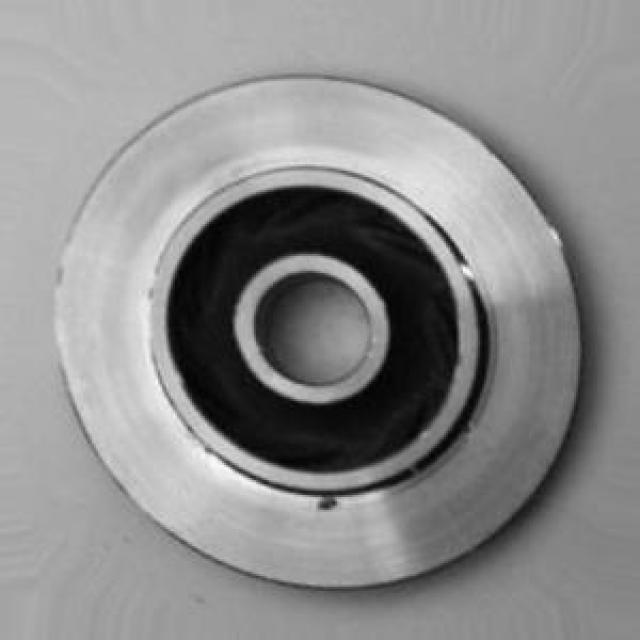Defect: (312, 485, 339, 525)
